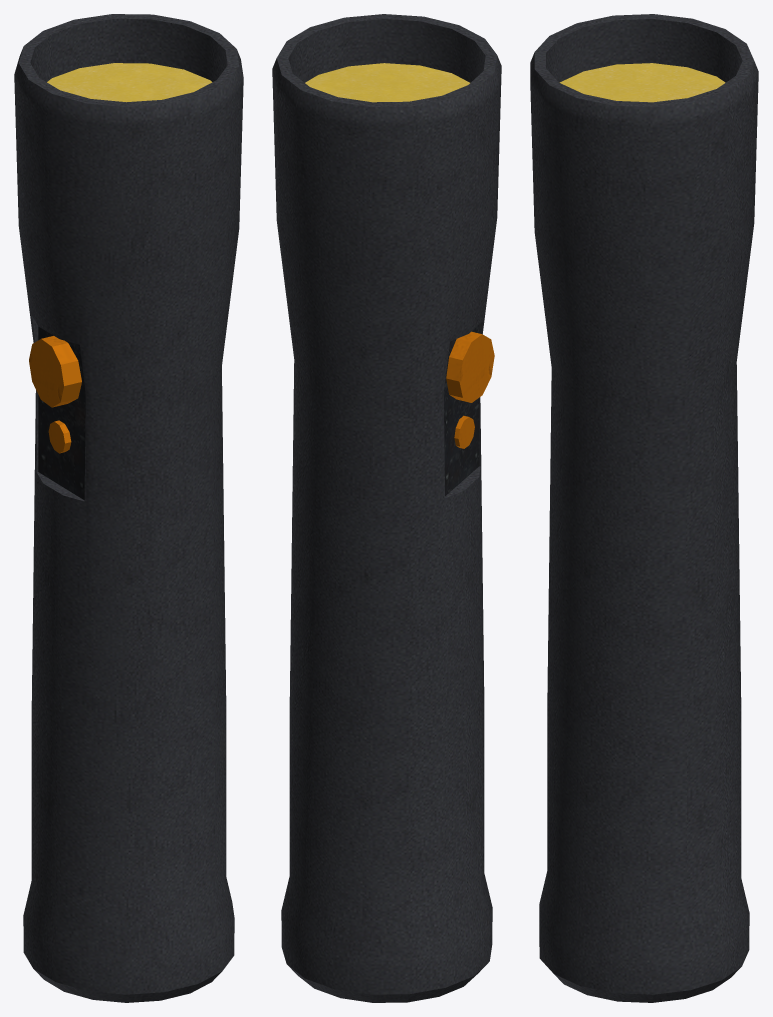
The model's file is flashlight1.fbx.
3 views of the same model, side by side, from view 1: azimuth 30°, elevation 25°; view 2: azimuth 150°, elevation 25°; view 3: azimuth 270°, elevation 25° (orthographic).
Visible parts, largest first — view 1: Cylinder; view 2: Cylinder; view 3: Cylinder.
Part boxes in pixels (x1,y1,x2,y2): Cylinder: (14, 14, 243, 1002); Cylinder: (272, 14, 501, 1002); Cylinder: (530, 14, 758, 1002).
Bounding box in the file's own units: 104 × 451 × 103.
4 materials, 4 textured.
